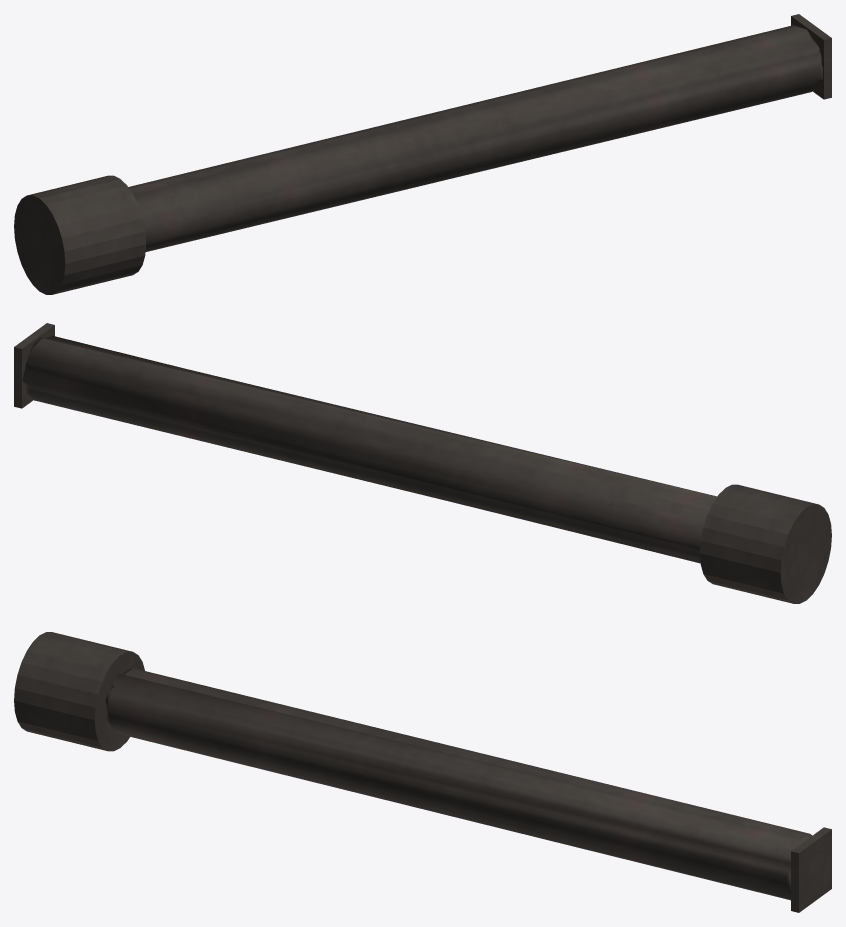
The picture shows the model from 3 angles, top to bottom: view 1: azimuth 30°, elevation 25°; view 2: azimuth 150°, elevation 25°; view 3: azimuth 330°, elevation 25°; orthographic projection.
Visible parts, largest first — view 1: stange, knauf, bruch; view 2: stange, knauf, bruch; view 3: stange, knauf, bruch.
Boxes of the visible parts, x1,y1,x2,y2 form: stange: (128,25,822,251); knauf: (14,175,145,294); bruch: (791,14,831,99); stange: (22,336,717,563); knauf: (700,484,831,603); bruch: (14,323,54,408); stange: (105,668,812,900); knauf: (14,632,144,751); bruch: (791,827,831,912).
Size of the model in its own units: 0.192 by 0.022 by 0.022.
3 materials, 3 textured.
